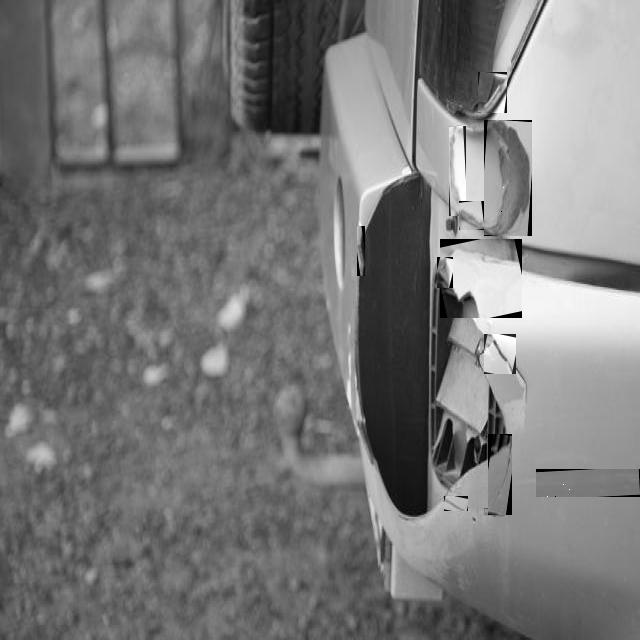Dent: (440, 239, 522, 318), (484, 120, 532, 236), (536, 469, 640, 497), (488, 434, 512, 515), (449, 126, 466, 216), (484, 334, 516, 374), (478, 72, 507, 113), (459, 201, 484, 230), (437, 257, 453, 288), (357, 226, 365, 276), (444, 496, 468, 511), (495, 135, 509, 158), (484, 508, 508, 515)
